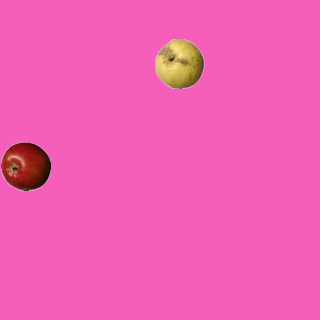Apple Braeburn: (0, 141, 50, 191)
Apple Golden 1: (154, 38, 204, 88)
